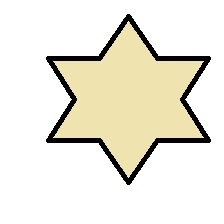star: (45, 13, 211, 185)
